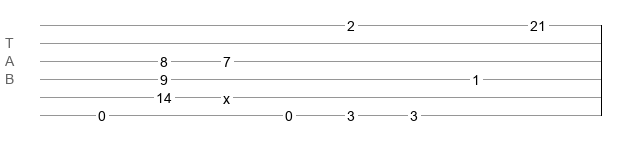0: (98, 108, 106, 118), (285, 108, 293, 118)
1: (472, 72, 480, 82)
14: (156, 90, 172, 100)
2: (347, 18, 355, 28)
21: (530, 18, 546, 28)
3: (347, 108, 355, 118), (410, 108, 418, 118)
7: (223, 54, 231, 64)
8: (160, 54, 168, 64)
9: (160, 72, 168, 82)
x: (223, 91, 230, 99)
